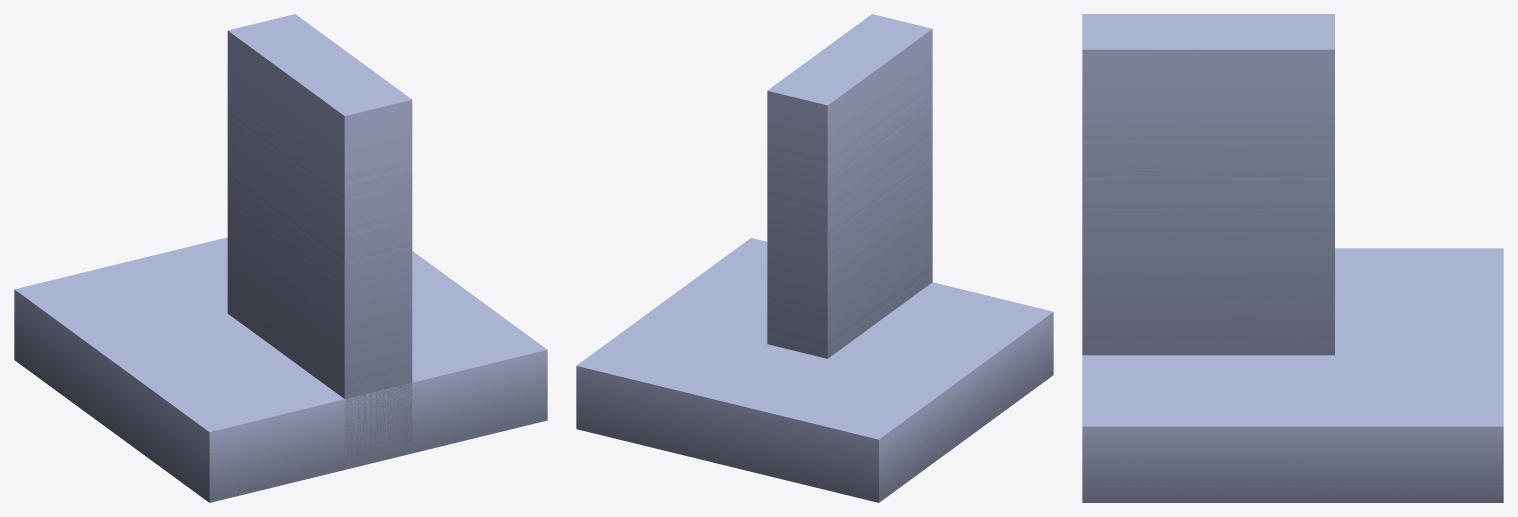
The model's file is wall.glb.
3 renders of one model, left to right at view 1: azimuth 30°, elevation 25°; view 2: azimuth 150°, elevation 25°; view 3: azimuth 270°, elevation 25°, orthographic. The views are drawn at different scales.
Visible parts, largest first — view 1: floor-thick; view 2: floor-thick; view 3: floor-thick.
Boxes of the visible parts, bbox=[...] form: floor-thick: bbox=[14, 14, 547, 502]; floor-thick: bbox=[576, 14, 1053, 502]; floor-thick: bbox=[1082, 14, 1503, 502].
Bounding box in the file's own units: 1 × 1 × 1.
2 materials, 2 textured.
